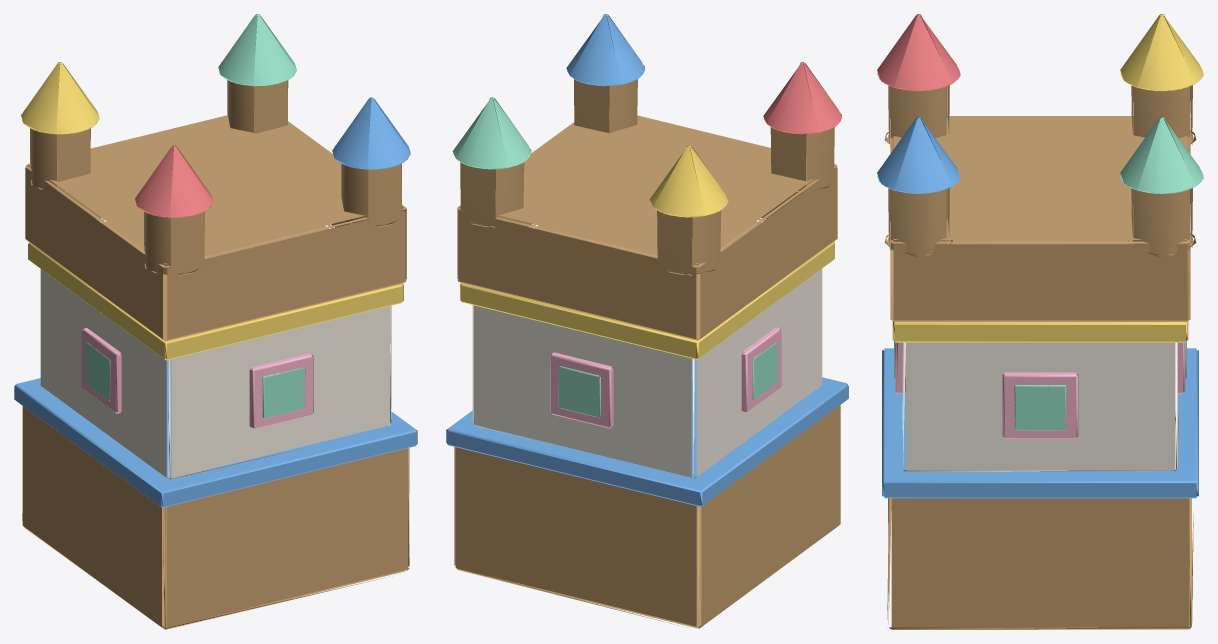
Rendered from castle_keep_center.glb.
3 renders of one model, left to right at view 1: azimuth 30°, elevation 25°; view 2: azimuth 150°, elevation 25°; view 3: azimuth 270°, elevation 25°, orthographic. The views are drawn at different scales.
Visible parts, largest first — view 1: Tier3Top, Tier1Base, Tier2Body, Tier1Trim, Tier2Trim, CornerRoof_0, CornerRoof_2, CornerRoof_1, CornerRoof_3, CornerTurret_0, CornerTurret_1, CornerTurret_2 (+5 smaller); view 2: Tier3Top, Tier1Base, Tier2Body, Tier1Trim, Tier2Trim, CornerTurret_2, CornerTurret_3, CornerRoof_2, CornerRoof_3, CornerRoof_1, CornerRoof_0, CornerTurret_0 (+5 smaller); view 3: Tier3Top, Tier1Base, Tier2Body, Tier1Trim, Tier2Trim, CornerRoof_0, CornerRoof_3, CornerRoof_2, CornerRoof_1, CornerTurret_1, CornerTurret_3, KeepWin_3 (+4 smaller).
Part boxes in pixels (left/top/right/bottom): Tier3Top: left=25, top=109, right=406, bottom=341; Tier1Base: left=22, top=406, right=409, bottom=629; Tier2Body: left=40, top=269, right=391, bottom=479; Tier1Trim: left=14, top=359, right=417, bottom=507; Tier2Trim: left=28, top=242, right=403, bottom=360; CornerRoof_0: left=135, top=145, right=213, bottom=217; CornerRoof_2: left=21, top=62, right=99, bottom=134; CornerRoof_1: left=332, top=97, right=410, bottom=169; CornerRoof_3: left=218, top=14, right=296, bottom=86; CornerTurret_0: left=143, top=211, right=204, bottom=275; CornerTurret_1: left=341, top=138, right=401, bottom=227; CornerTurret_2: left=29, top=128, right=90, bottom=192; Tier3Top: left=457, top=109, right=837, bottom=340; Tier1Base: left=454, top=405, right=840, bottom=628; Tier2Body: left=472, top=268, right=822, bottom=478; Tier1Trim: left=446, top=358, right=848, bottom=506; Tier2Trim: left=460, top=242, right=834, bottom=359; CornerTurret_2: left=657, top=188, right=721, bottom=275; CornerTurret_3: left=460, top=138, right=524, bottom=227; CornerRoof_2: left=649, top=145, right=728, bottom=217; CornerRoof_3: left=452, top=97, right=531, bottom=169; CornerRoof_1: left=566, top=14, right=645, bottom=86; CornerRoof_0: left=763, top=62, right=841, bottom=134; CornerTurret_0: left=770, top=103, right=834, bottom=192; Tier3Top: left=890, top=116, right=1190, bottom=321; Tier1Base: left=887, top=498, right=1193, bottom=629; Tier2Body: left=902, top=342, right=1178, bottom=471; Tier1Trim: left=882, top=348, right=1198, bottom=498; Tier2Trim: left=892, top=321, right=1188, bottom=342; CornerRoof_0: left=877, top=14, right=960, bottom=91; CornerRoof_3: left=1120, top=117, right=1203, bottom=193; CornerRoof_2: left=1120, top=14, right=1203, bottom=91; CornerRoof_1: left=877, top=117, right=960, bottom=193; CornerTurret_1: left=884, top=165, right=952, bottom=256; CornerTurret_3: left=1128, top=167, right=1196, bottom=256; KeepWin_3: left=1002, top=372, right=1078, bottom=438.
Size of the model in its own units: 6.86 by 11.57 by 6.86.
